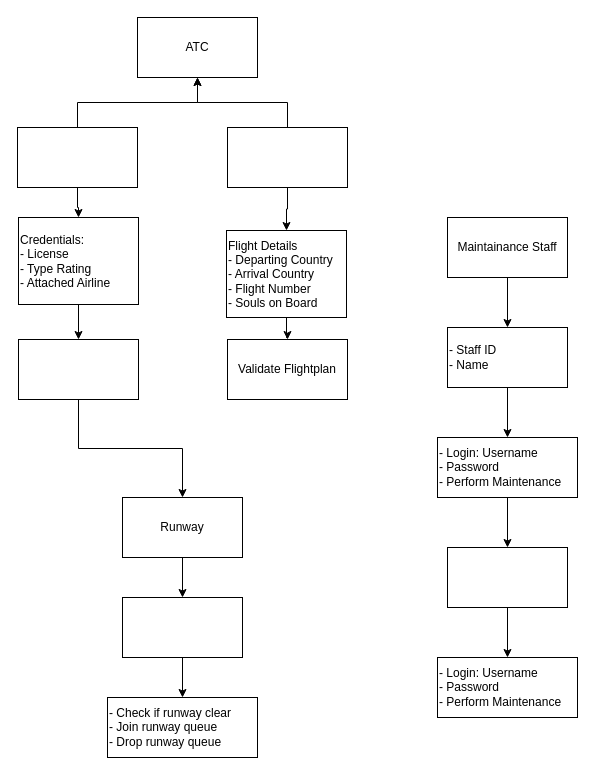
The diagram is 595 pixels wide and 775 high, and some of its shapes have lost their labels. Each missing label, with the centre of its shape:
"- Runway Number - Runway Status" belongs at [182,627].
"ATC System" belongs at [507,577].
"Flight Plan" belongs at [287,157].
"Pilot" belongs at [77,157].
"Validate fit for Flight" belongs at [78,369].
